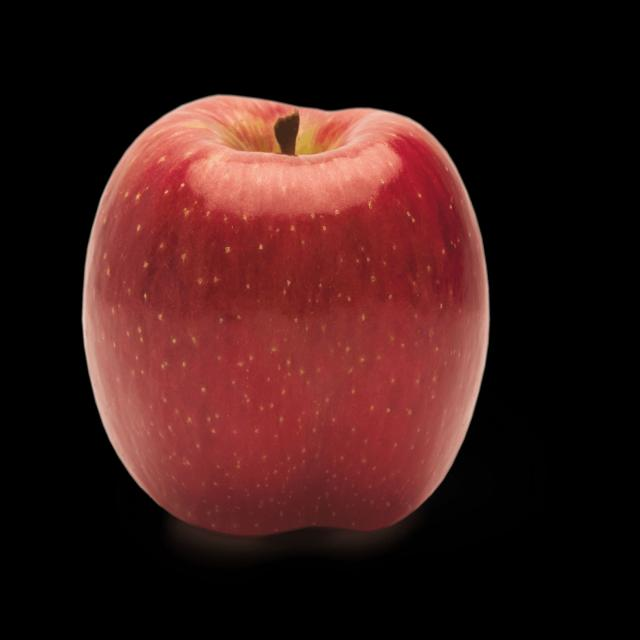Rotten Apple: (49, 49, 526, 559)
